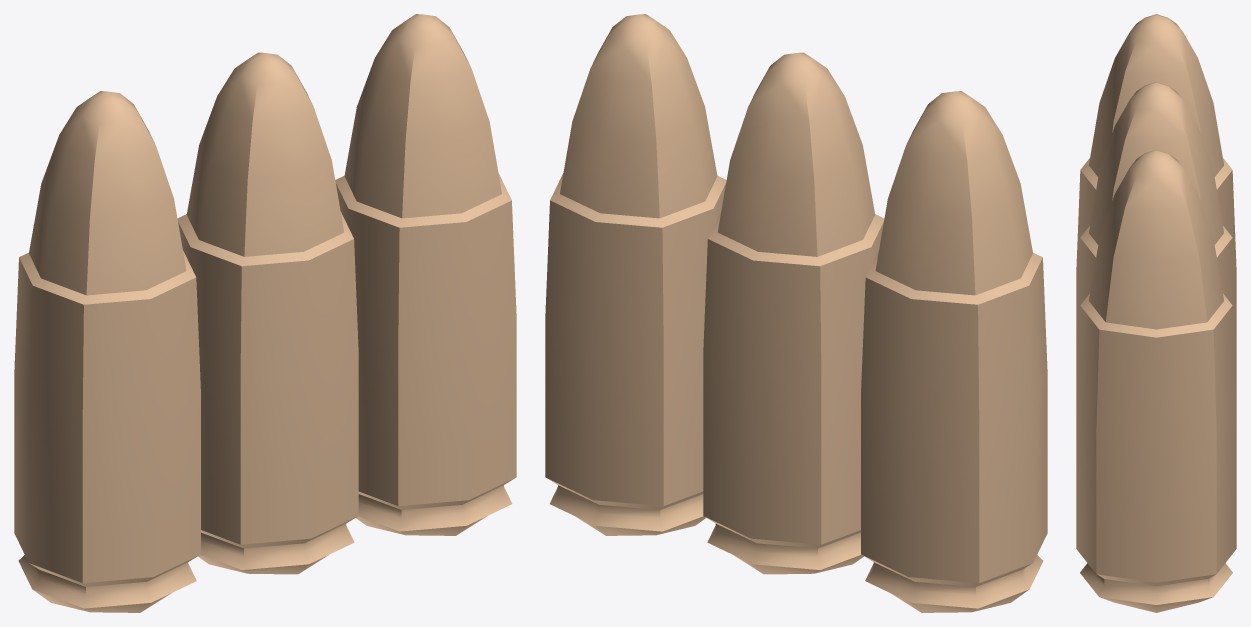
The model's file is quaternius-ultimate-space-pack-pickup-bullets-transformed.glb.
The picture shows the model from 3 angles, left to right: view 1: azimuth 30°, elevation 25°; view 2: azimuth 150°, elevation 25°; view 3: azimuth 270°, elevation 25°; orthographic projection. The views are drawn at different scales.
Parts seen in each view (by area): view 1: Pickup_Bullets; view 2: Pickup_Bullets; view 3: Pickup_Bullets.
Part boxes in pixels (box(x1,y1,x2,y2)): Pickup_Bullets: box(14, 14, 516, 612); Pickup_Bullets: box(545, 14, 1047, 612); Pickup_Bullets: box(1076, 14, 1236, 612).
Bounding box in the file's own units: 0.8284 × 0.8421 × 0.2761.
Materials: 1 (1 with a texture image).
